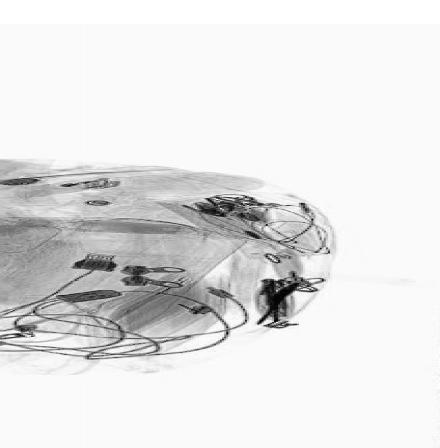Lighter: (7, 174, 124, 199)
